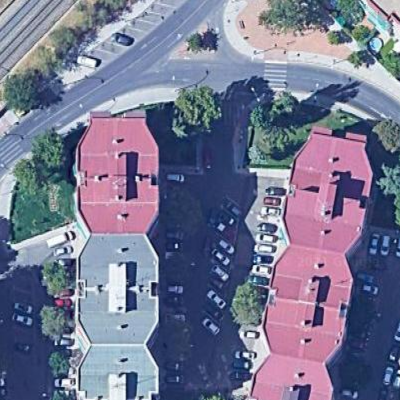tree: (170, 84, 224, 141), (2, 64, 45, 113), (30, 129, 72, 174), (9, 156, 49, 202), (229, 280, 266, 328), (264, 1, 316, 35), (258, 122, 294, 161), (45, 29, 85, 61), (38, 302, 70, 341), (371, 116, 400, 158), (38, 259, 68, 297), (47, 348, 73, 382), (249, 104, 272, 129), (348, 48, 367, 73), (325, 27, 346, 48), (186, 33, 205, 55)
